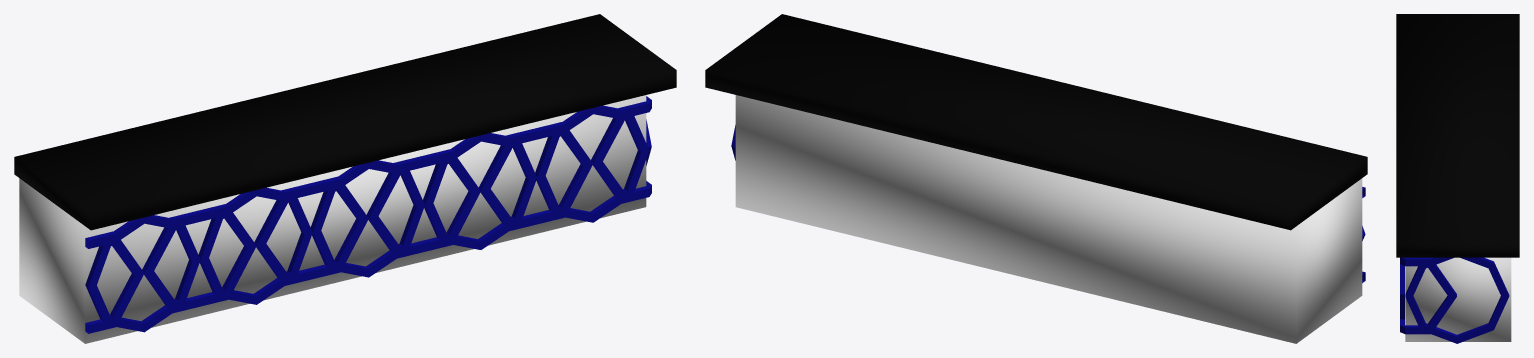
The model's file is FrontDesk.glb.
The picture shows the model from 3 angles, left to right: view 1: azimuth 30°, elevation 25°; view 2: azimuth 150°, elevation 25°; view 3: azimuth 270°, elevation 25°; orthographic projection. The views are drawn at different scales.
Visible parts, largest first — view 1: FrontDesk; view 2: FrontDesk; view 3: FrontDesk.
Part boxes in pixels (x1,y1,x2,y2): FrontDesk: [14, 14, 676, 343]; FrontDesk: [705, 14, 1367, 343]; FrontDesk: [1396, 14, 1519, 343].
Size of the model in its own units: 10.45 by 2.3 by 2.37.
